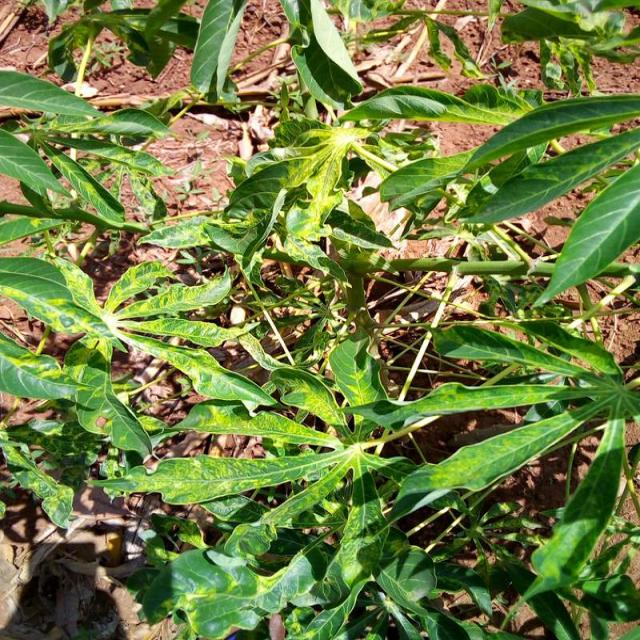cassava leaf: (0, 1, 638, 638), (530, 160, 638, 309)
